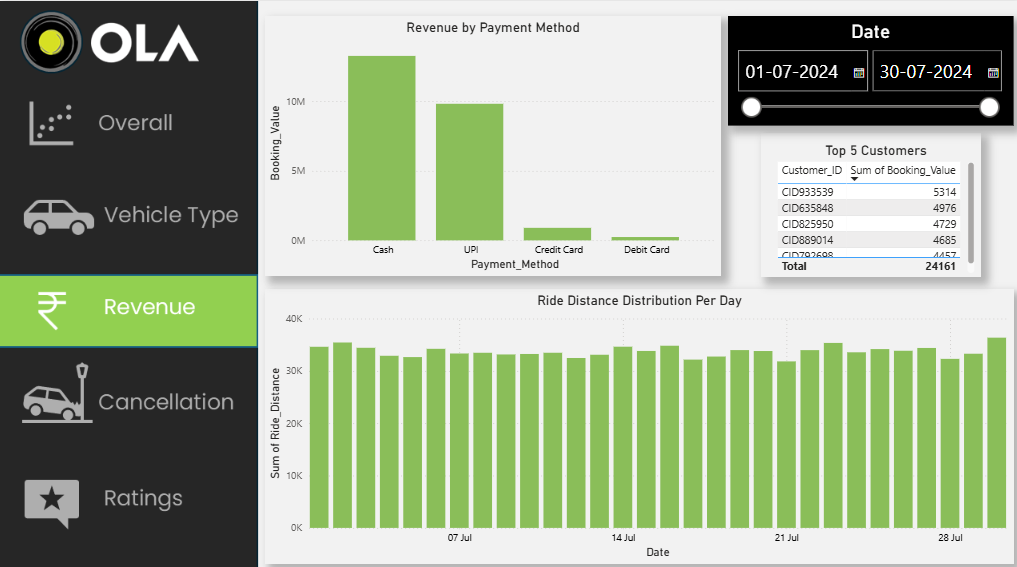

The dashboard page shown, as its layout file describes it:
{"tool":"powerbi","page":{"name":"Revenue","canvas":[1280,720],"ordinal":2},"visuals":[{"type":"actionButton","box":[0,218.5,324.8,89.6],"z":0},{"type":"actionButton","box":[0,344.1,324.8,89.6],"z":1000},{"type":"actionButton","box":[0,444.6,324.8,107.2],"z":2000},{"type":"actionButton","box":[0,566.8,324.8,107.2],"z":3000},{"type":"actionButton","box":[0,107.2,324.8,98.8],"z":4000},{"type":"columnChart","title":"Revenue by Payment Method","fields":{"Y":["Sum(July.Booking_Value)"],"Category":["July.Payment_Method"]},"box":[332.7,19.1,570,325.5],"z":5000},{"type":"columnChart","title":"Ride Distance Distribution Per Day","fields":{"Y":["Sum(July.Ride_Distance)"],"Category":["July.Date"]},"box":[332.7,360,936.4,343.6],"z":6000},{"type":"slicer","title":"Date","fields":{"Values":["July.Date"]},"box":[911.8,19.1,357.3,137.3],"z":7000},{"type":"tableEx","title":"Top 5 Customers","fields":{"Values":["July.Customer_ID","Sum(July.Booking_Value)"]},"box":[952.7,164.5,275.5,180],"z":8000}]}

Visuals, with their boxes in screenshot pixels (x1, y1, x2, y2), scaled from the page's 1280x720 canvas onto the 1017x567 screenshot:
actionButton: [0,172,258,243]
actionButton: [0,271,258,342]
actionButton: [0,350,258,435]
actionButton: [0,446,258,531]
actionButton: [0,84,258,162]
"Revenue by Payment Method" columnChart: [264,15,717,271]
"Ride Distance Distribution Per Day" columnChart: [264,284,1008,554]
"Date" slicer: [724,15,1008,123]
"Top 5 Customers" tableEx: [757,130,976,271]
